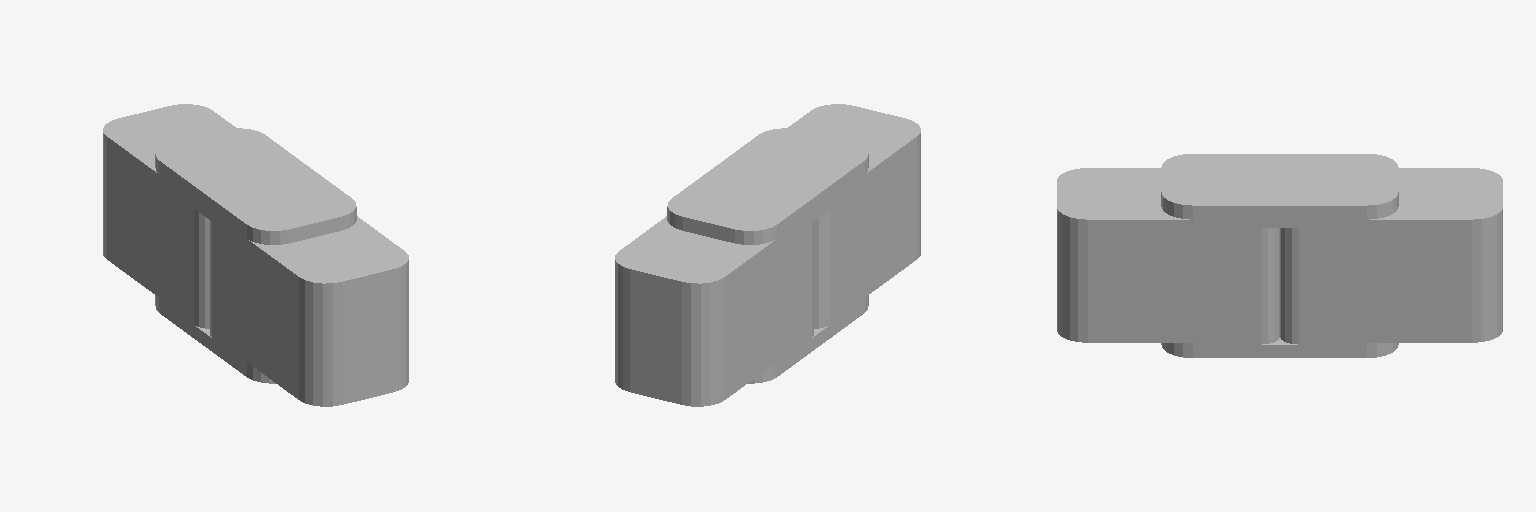
3 renders of one model, left to right at view 1: azimuth 30°, elevation 25°; view 2: azimuth 150°, elevation 25°; view 3: azimuth 270°, elevation 25°, orthographic.
Parts seen in each view (by area): view 1: <STL_BINARY>; view 2: <STL_BINARY>; view 3: <STL_BINARY>.
Part boxes in pixels (bbox=[...]): <STL_BINARY>: bbox=[103, 104, 408, 406]; <STL_BINARY>: bbox=[615, 104, 920, 406]; <STL_BINARY>: bbox=[1057, 154, 1502, 357].
Size of the model in its own units: 0.0196 by 0.027 by 0.0716.